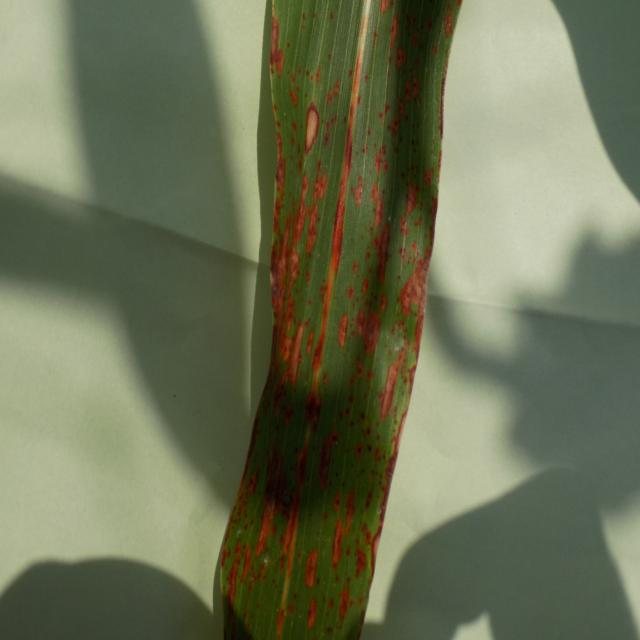millet_rust: (211, 0, 458, 640)
